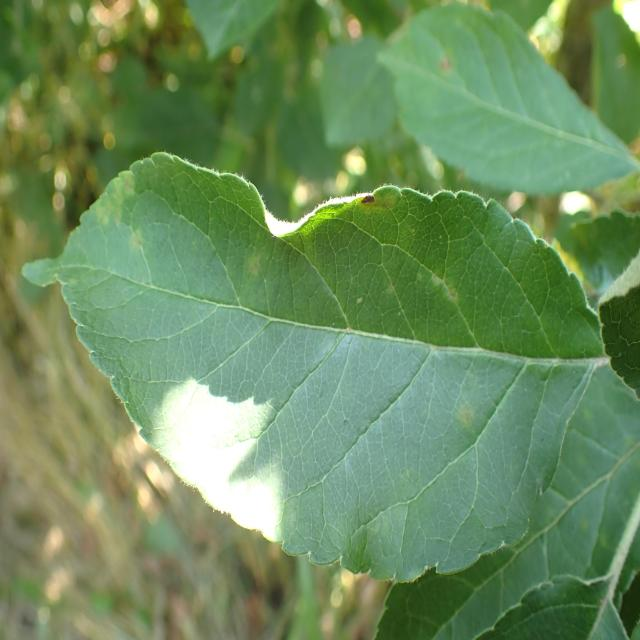scab: (79, 139, 594, 494)
